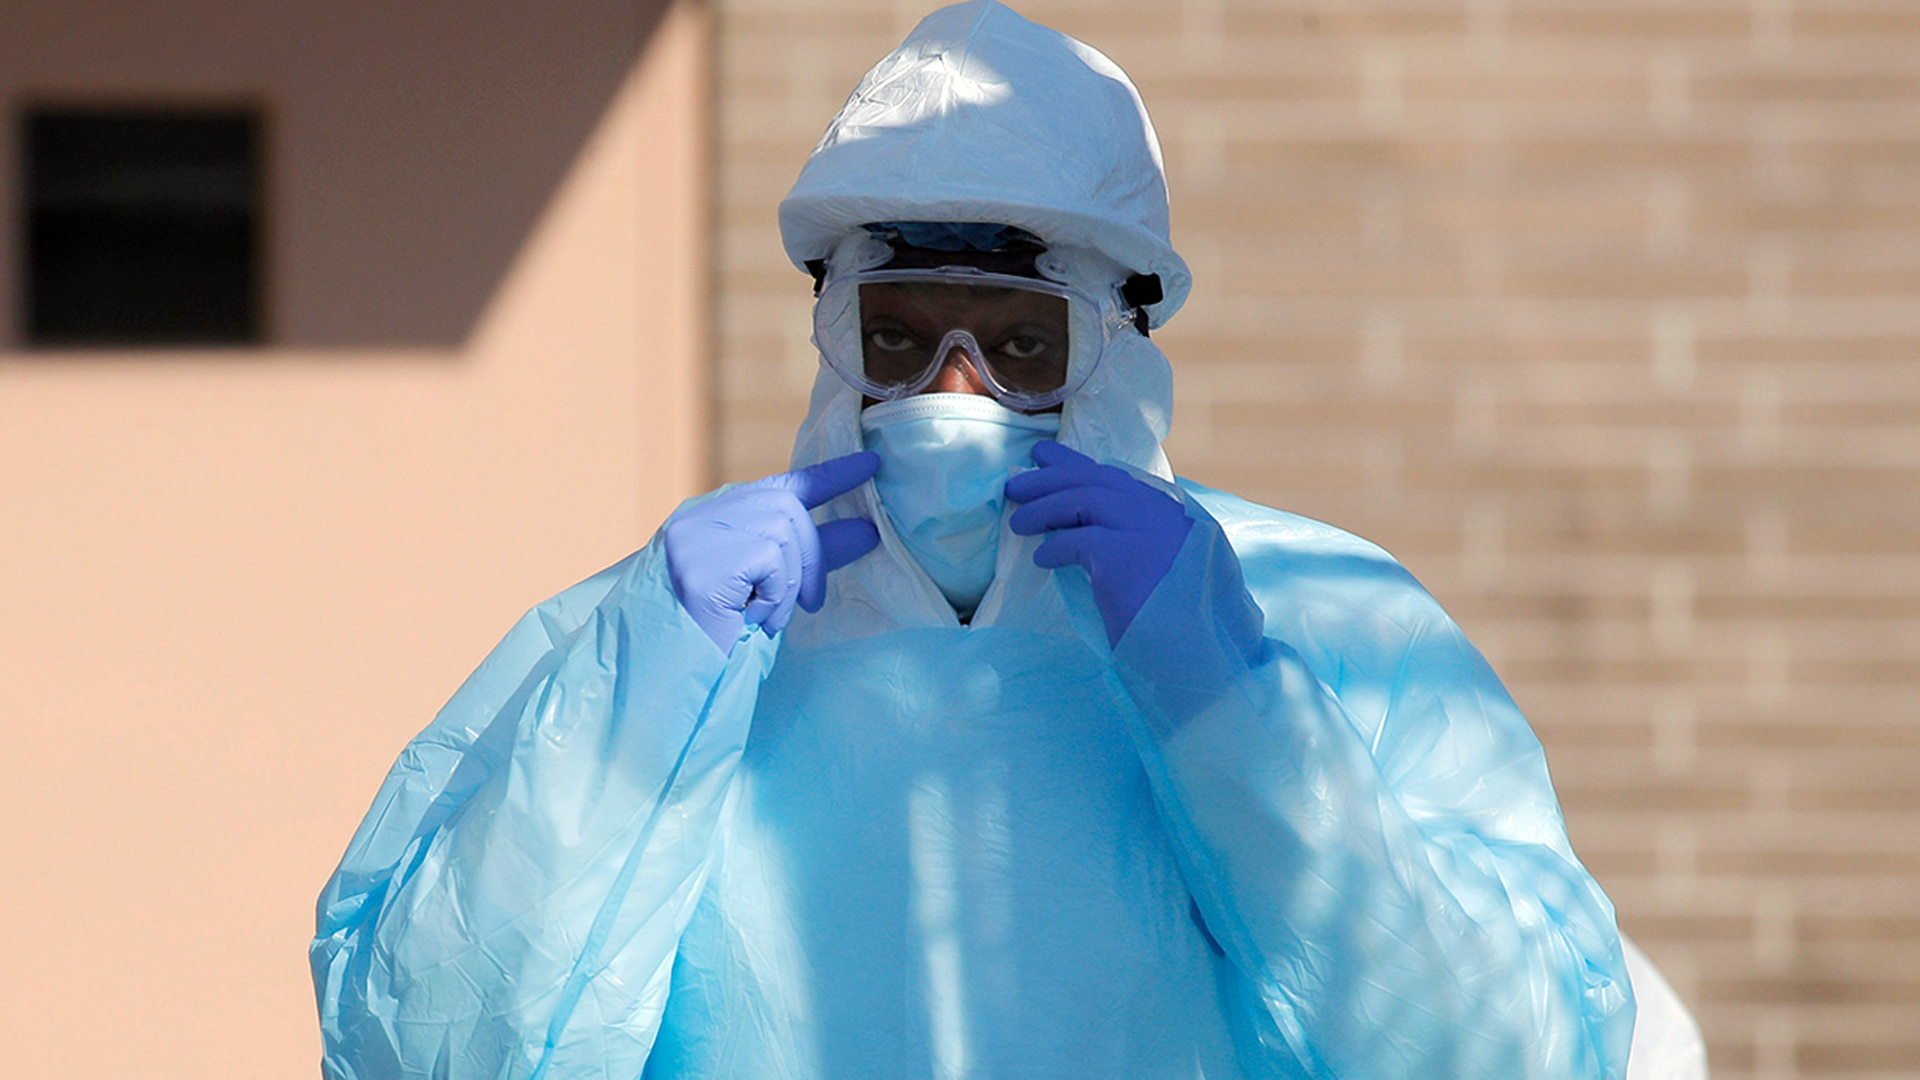Coverall: (312, 2, 1628, 1079)
Gloves: (664, 443, 880, 641), (1003, 439, 1203, 626)
Goggles: (806, 261, 1114, 416)
with_mask: (864, 319, 1061, 601)
